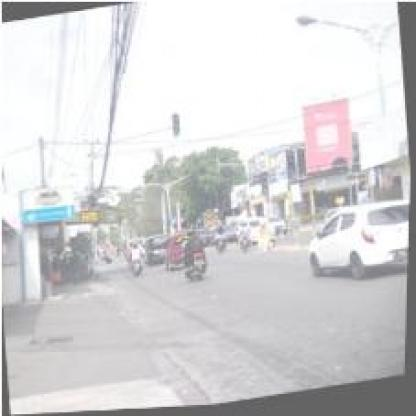green: (170, 112, 182, 136), (261, 173, 270, 197)
